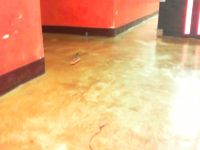switch: (184, 1, 193, 34), (197, 1, 200, 35)
